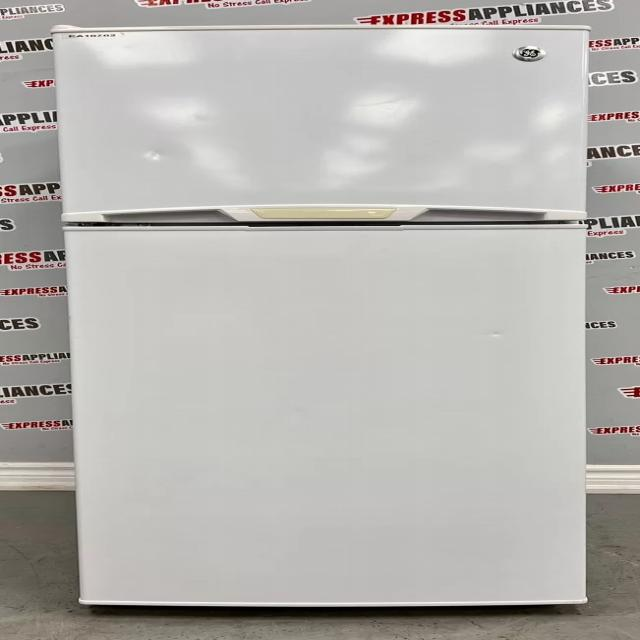refrigerator: (54, 24, 594, 607)
